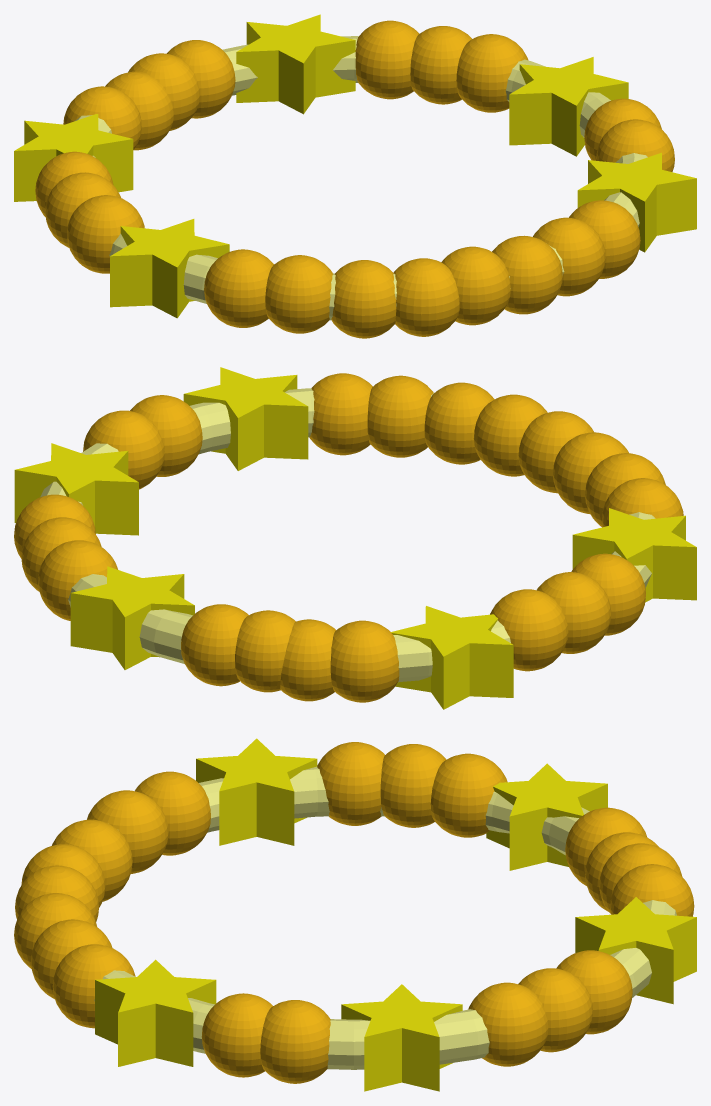
The model's file is Fearless.fbx.
3 renders of one model, top to bottom at view 1: azimuth 30°, elevation 25°; view 2: azimuth 150°, elevation 25°; view 3: azimuth 270°, elevation 25°, orthographic. The views are drawn at different scales.
Parts seen in each view (by area): view 1: Torus.019; view 2: Torus.019; view 3: Torus.019.
Part boxes in pixels (x1,y1,x2,y2): Torus.019: [14, 14, 696, 338]; Torus.019: [14, 367, 696, 709]; Torus.019: [14, 738, 696, 1091].
Size of the model in its own units: 234 by 31.57 by 227.
